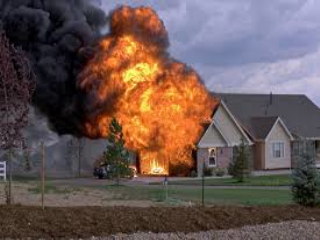fire: (97, 20, 211, 169)
smoke: (6, 1, 79, 150)
